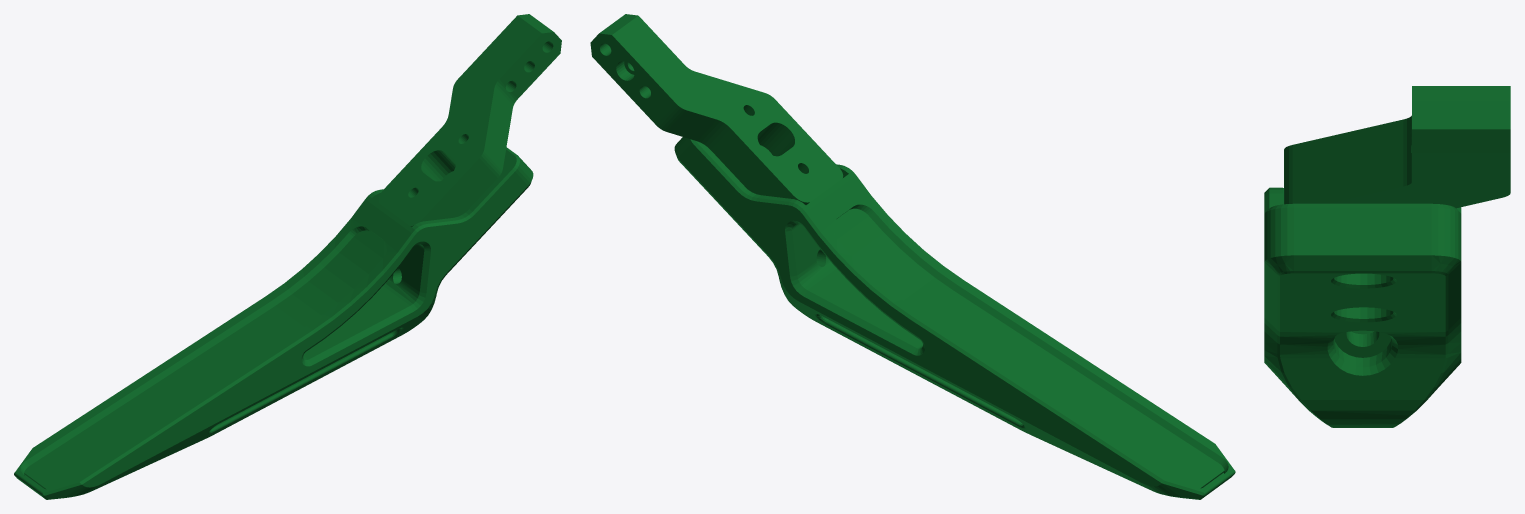
File: L1__green.glb
3 views of the same model, side by side, from view 1: azimuth 30°, elevation 25°; view 2: azimuth 150°, elevation 25°; view 3: azimuth 270°, elevation 25° (orthographic). The views are drawn at different scales.
Visible parts, largest first — view 1: L1.STL; view 2: L1.STL; view 3: L1.STL.
Part boxes in pixels (x1,y1,x2,y2): L1.STL: [14, 14, 561, 499]; L1.STL: [590, 14, 1235, 499]; L1.STL: [1264, 86, 1510, 427].
Bounding box in the file's own units: 0.128 × 0.0716 × 0.025.
1 material, 1 textured.
